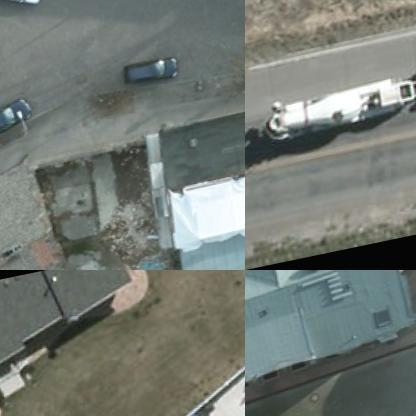car: (126, 55, 188, 92), (0, 100, 45, 143), (0, 0, 50, 17), (0, 46, 6, 78)
other: (264, 71, 415, 149)
